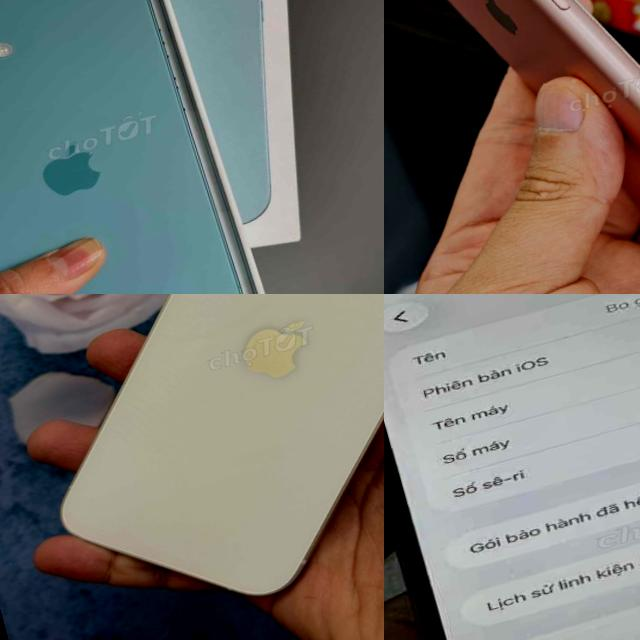gen_14: (0, 294, 384, 640)
gen_15: (384, 294, 640, 640)
gen_16: (0, 0, 266, 294)
gen_7_8: (384, 0, 640, 294)
